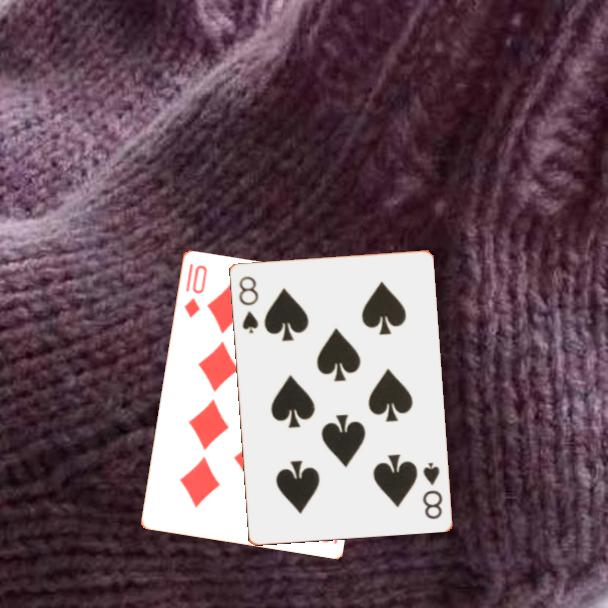d10: (180, 261, 210, 320)
s08: (235, 272, 261, 336), (419, 458, 445, 522)
